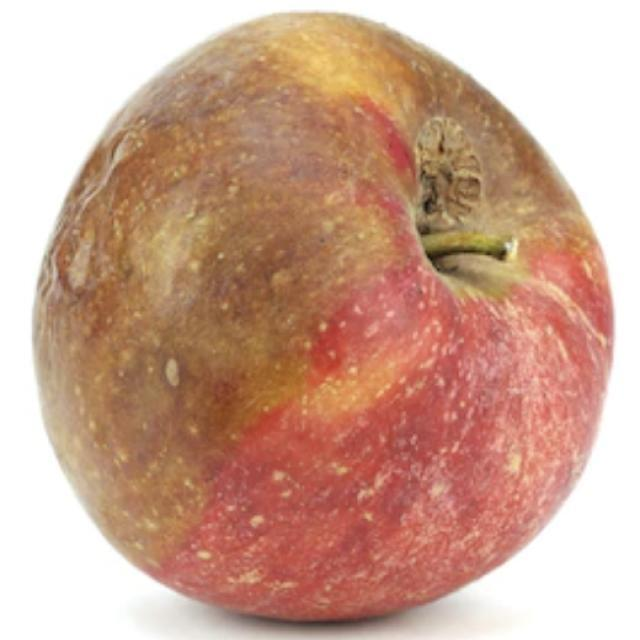Rotten: (30, 22, 597, 613)
